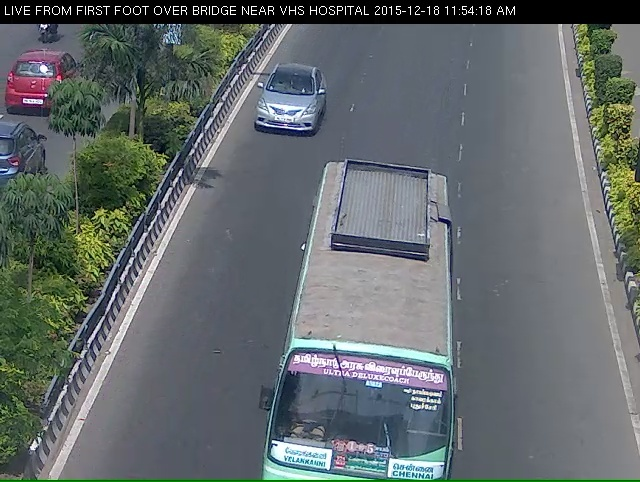Bus: (261, 170, 469, 478)
Car: (234, 68, 328, 157)
